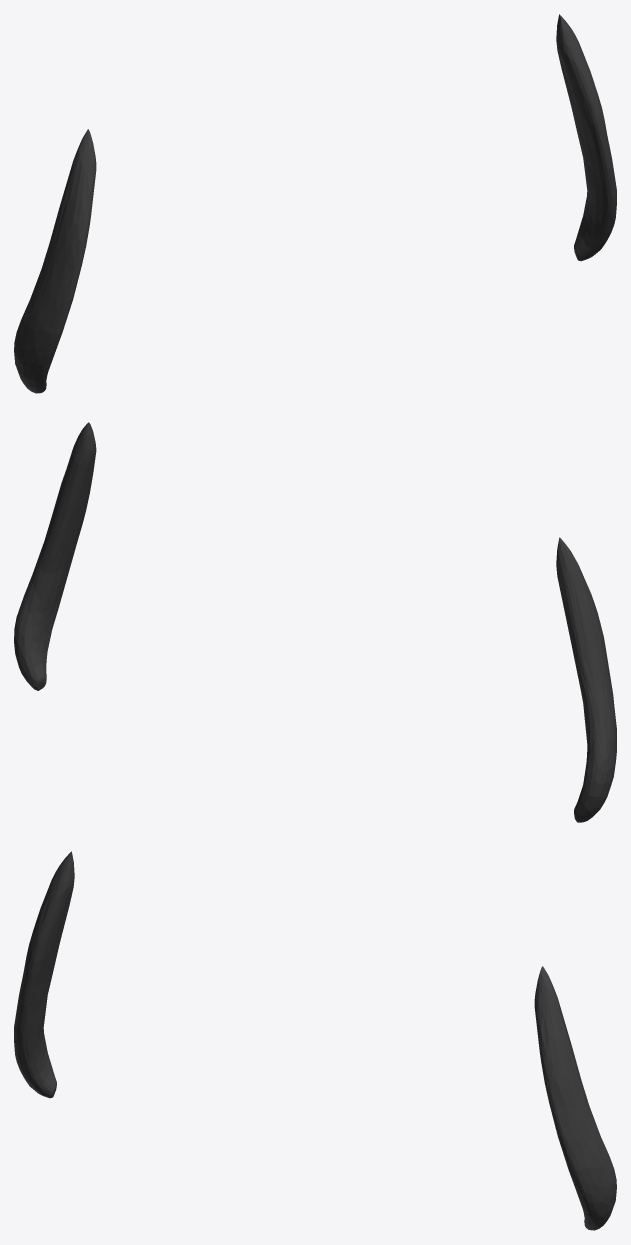
Rendered from m_supinator.glb.
The picture shows the model from 3 angles, top to bottom: view 1: azimuth 30°, elevation 25°; view 2: azimuth 150°, elevation 25°; view 3: azimuth 330°, elevation 25°; orthographic projection.
Visible parts, largest first — view 1: m_supinator; view 2: m_supinator; view 3: m_supinator.
Boxes of the visible parts, left/top/right/bottom form: m_supinator: left=14, top=14, right=616, bottom=393; m_supinator: left=14, top=422, right=616, bottom=822; m_supinator: left=14, top=851, right=616, bottom=1230.
Bounding box in the file's own units: 0.0044 × 0.00188 × 0.000478.
1 material, 1 textured.
